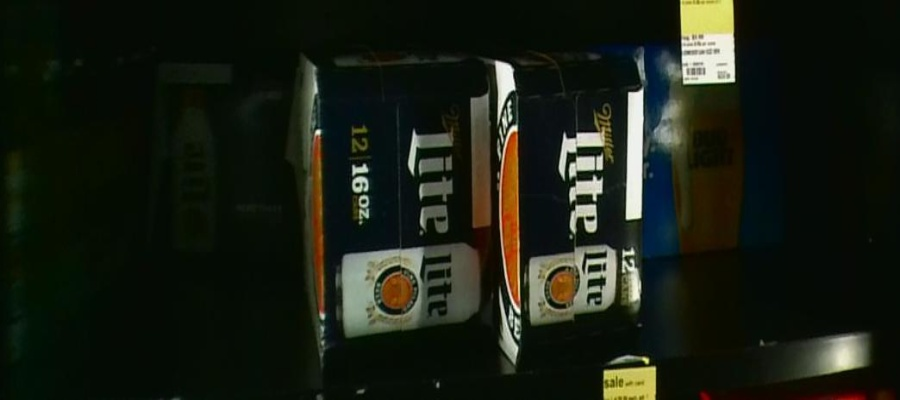bottle: (295, 53, 491, 352), (496, 56, 641, 355), (147, 58, 295, 280), (644, 46, 783, 253)
